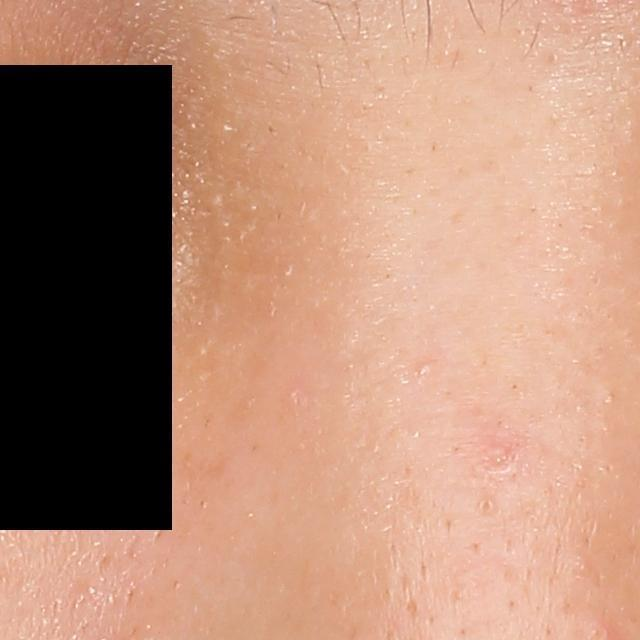comedo: (478, 496, 496, 514), (417, 359, 431, 378)
